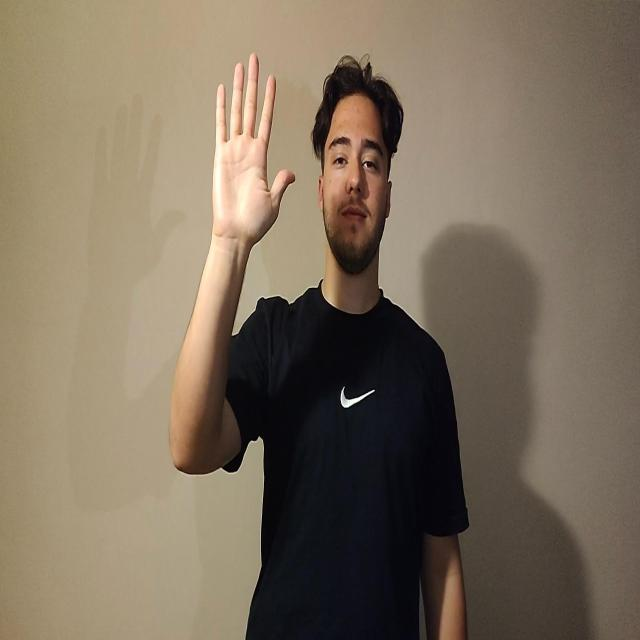hello: (210, 51, 296, 248)
